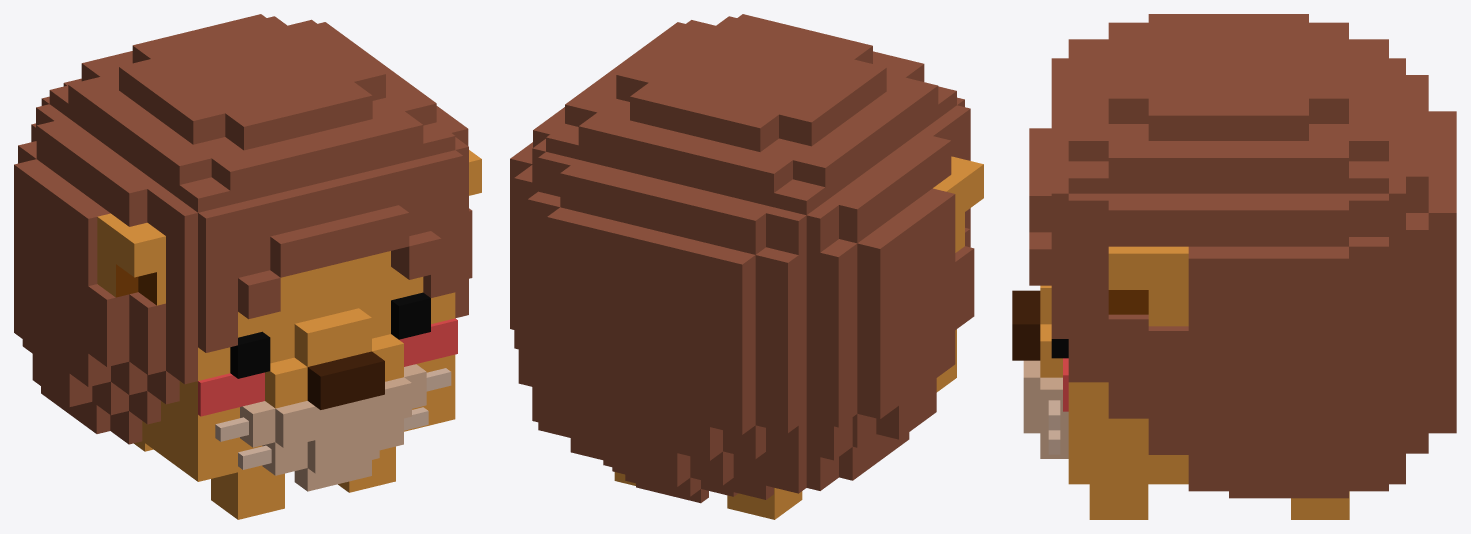
Rendered from Lion.fbx.
3 views of the same model, side by side, from view 1: azimuth 30°, elevation 25°; view 2: azimuth 150°, elevation 25°; view 3: azimuth 270°, elevation 25° (orthographic). The views are drawn at different scales.
Parts seen in each view (by area): view 1: Box001, Box005, Box004; view 2: Box001, Box002; view 3: Box001, Box004, Box003.
Part boxes in pixels (x1,y1,x2,y2): Box001: (14, 14, 481, 491); Box005: (211, 466, 284, 519); Box004: (338, 446, 395, 492); Box001: (510, 14, 983, 503); Box002: (727, 487, 802, 519); Box001: (1012, 14, 1456, 498); Box004: (1089, 484, 1148, 519); Box003: (1291, 491, 1349, 519).
Bounding box in the file's own units: 114 × 114 × 111.
